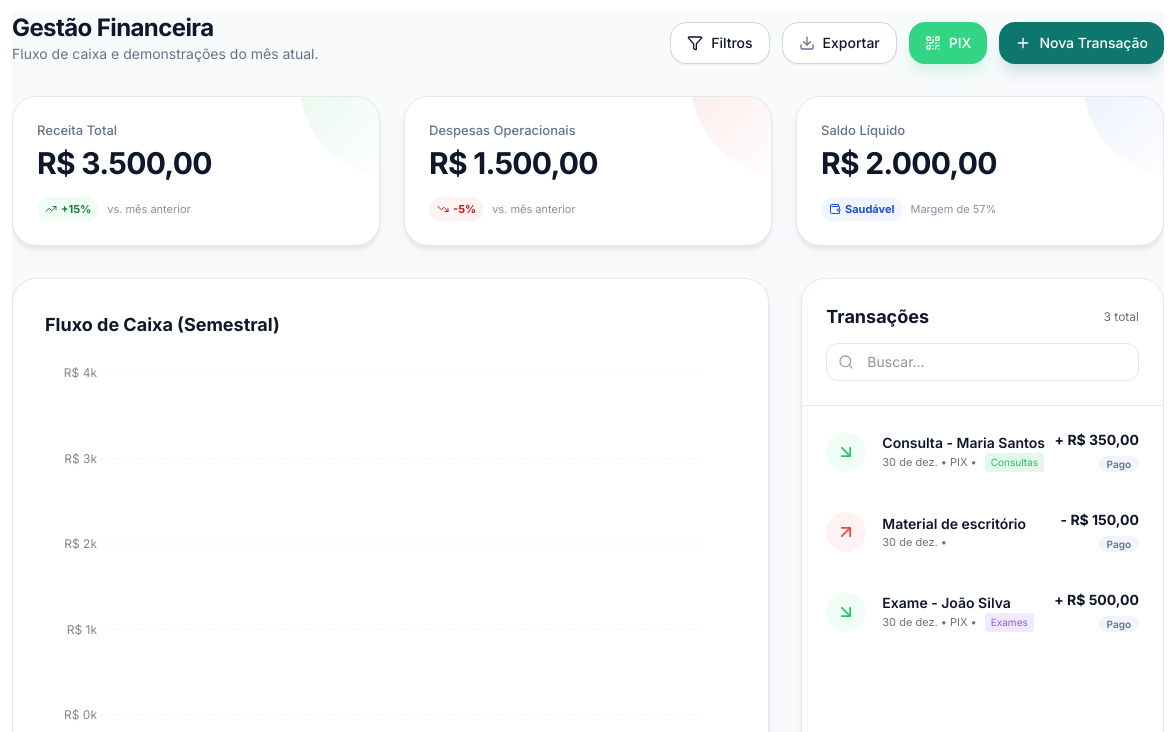
Scenario: Finance › filter functionality › should open filter menu on click
Click the button "Filtros".
click(720, 43)  # box [670,22,770,64]
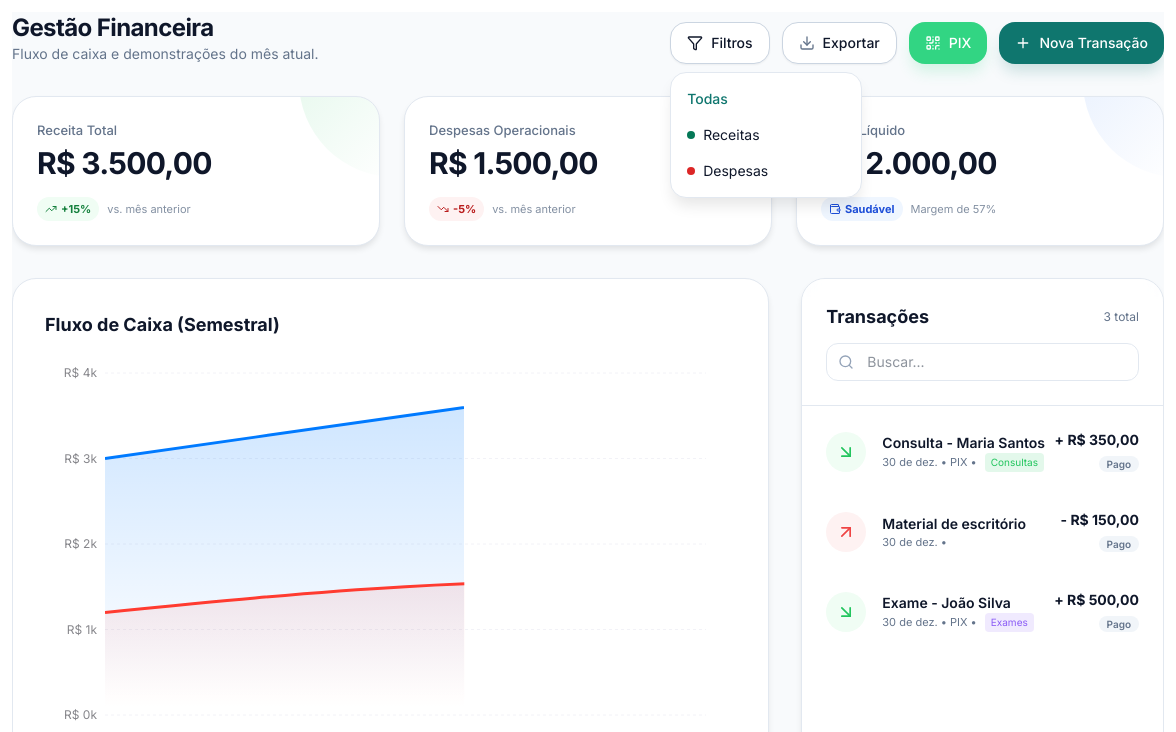
Expected: the button "Todas" is shown, [671,81,861,117]
Expected: the button "Receitas" is shown, [671,117,861,153]
Expected: the button "Despesas" is shown, [671,153,861,189]
